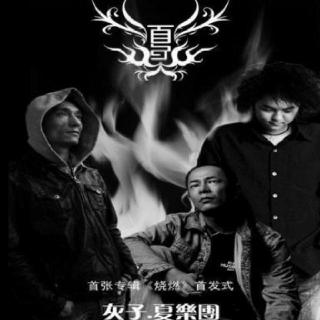Fire: (73, 2, 274, 240)
